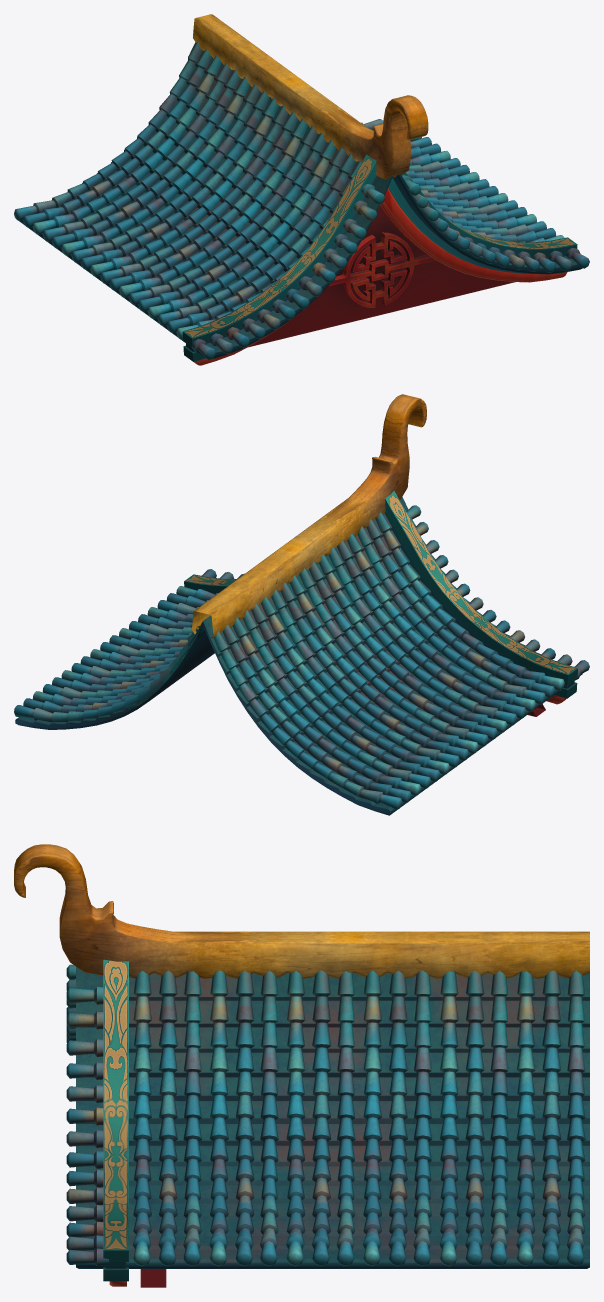
Rendered from SM_Roof3x5.glb.
3 views of the same model, one above another, from view 1: azimuth 30°, elevation 25°; view 2: azimuth 150°, elevation 25°; view 3: azimuth 270°, elevation 25° (orthographic). The views are drawn at different scales.
Parts seen in each view (by area): view 1: SM_Roof3x5_LOD0; view 2: SM_Roof3x5_LOD0; view 3: SM_Roof3x5_LOD0.
Boxes of the visible parts, x1,y1,x2,y2 form: SM_Roof3x5_LOD0: (14,14,589,365); SM_Roof3x5_LOD0: (14,394,589,815); SM_Roof3x5_LOD0: (14,844,589,1287).
Bounding box in the file's own units: 5.99 × 3.61 × 5.8.
2 materials, 2 textured.
